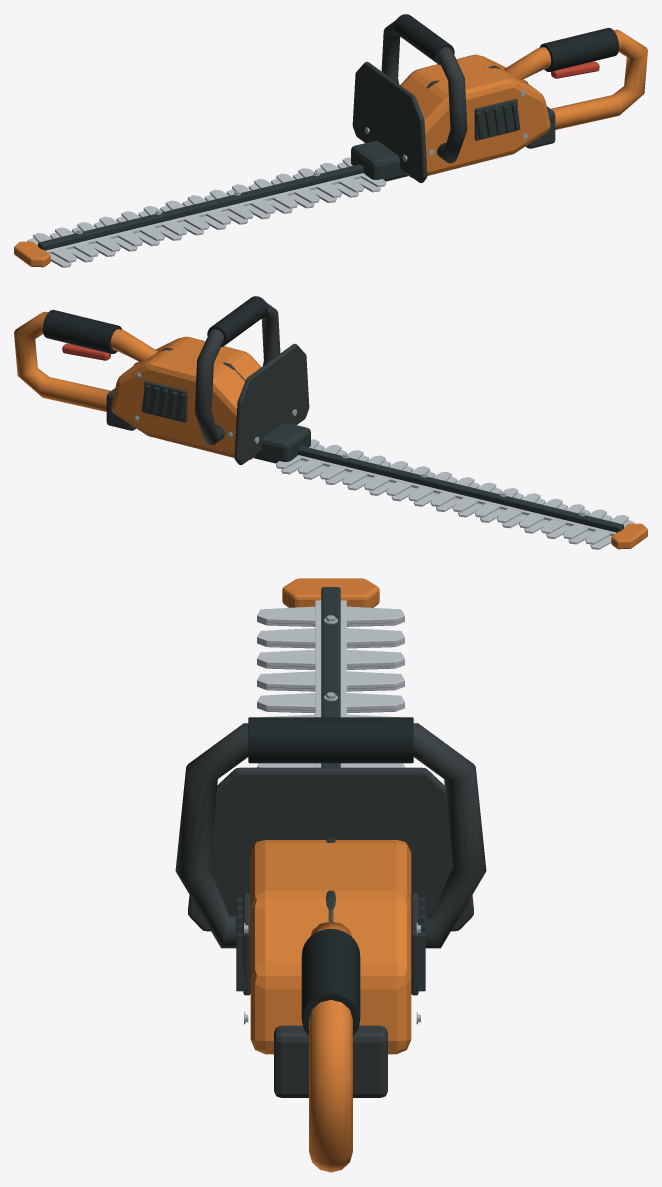
File: city-electric-hedge-trimmer.glb
The picture shows the model from 3 angles, top to bottom: view 1: azimuth 30°, elevation 25°; view 2: azimuth 150°, elevation 25°; view 3: azimuth 270°, elevation 25°; orthographic projection. The views are drawn at different scales.
Visible parts, largest first — view 1: Assembly | Warm orange polymer, Assembly | Dark molded polymer, Assembly | Bright cutter steel, Assembly | Graphite painted metal, Assembly | Textured charcoal rubber, Assembly | Control red polymer; view 2: Assembly | Warm orange polymer, Assembly | Dark molded polymer, Assembly | Bright cutter steel, Assembly | Graphite painted metal, Assembly | Textured charcoal rubber, Assembly | Control red polymer; view 3: Assembly | Dark molded polymer, Assembly | Warm orange polymer, Assembly | Bright cutter steel, Assembly | Textured charcoal rubber, Assembly | Graphite painted metal.
Boxes of the visible parts, <box> form: Assembly | Warm orange polymer: <box>14,29,647,267</box>; Assembly | Dark molded polymer: <box>352,20,555,182</box>; Assembly | Bright cutter steel: <box>27,157,385,267</box>; Assembly | Graphite painted metal: <box>38,65,528,250</box>; Assembly | Textured charcoal rubber: <box>394,14,619,71</box>; Assembly | Control red polymer: <box>551,61,599,78</box>; Assembly | Warm orange polymer: <box>14,311,647,549</box>; Assembly | Dark molded polymer: <box>106,302,309,464</box>; Assembly | Bright cutter steel: <box>276,439,634,549</box>; Assembly | Graphite painted metal: <box>133,347,623,532</box>; Assembly | Textured charcoal rubber: <box>42,296,267,353</box>; Assembly | Control red polymer: <box>62,343,110,360</box>; Assembly | Dark molded polymer: <box>175,723,486,1097</box>; Assembly | Warm orange polymer: <box>250,578,411,1172</box>; Assembly | Bright cutter steel: <box>257,600,404,767</box>; Assembly | Textured charcoal rubber: <box>248,717,413,1035</box>; Assembly | Graphite painted metal: <box>236,587,425,991</box>.
Bounding box in the file's own units: 1.19 × 0.243 × 0.2558.
